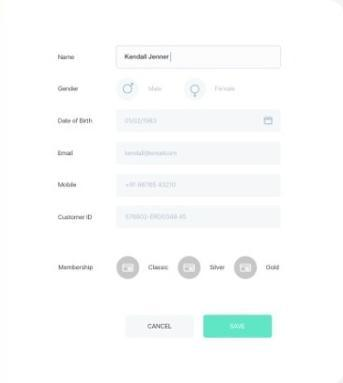button: (204, 315, 274, 340), (128, 316, 195, 340)
icon: (239, 261, 257, 276), (121, 81, 136, 96), (190, 83, 203, 100), (183, 263, 199, 276), (121, 263, 137, 274)
input: (115, 174, 282, 201), (114, 46, 284, 72), (116, 206, 284, 232), (117, 108, 284, 133), (116, 141, 282, 166)
label: (53, 117, 95, 128), (58, 212, 95, 224), (54, 264, 97, 273), (213, 83, 239, 97), (57, 50, 79, 66), (56, 85, 85, 96), (58, 180, 79, 193), (146, 84, 166, 97), (56, 148, 79, 159), (207, 262, 227, 274), (148, 264, 173, 273), (266, 266, 283, 275)
